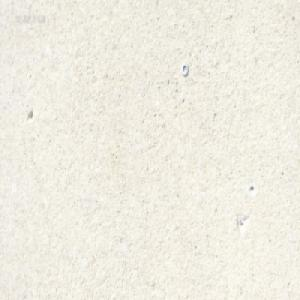Washer: (181, 61, 188, 75)
